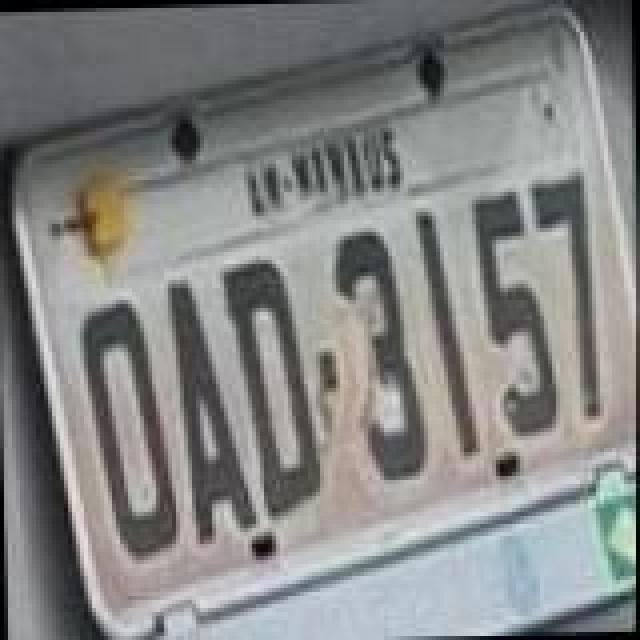1: (412, 204, 480, 460)
3: (332, 222, 428, 478)
5: (468, 186, 560, 442)
7: (528, 166, 604, 426)
A: (168, 274, 260, 550)
D: (220, 256, 324, 516)
O: (78, 292, 182, 560)
